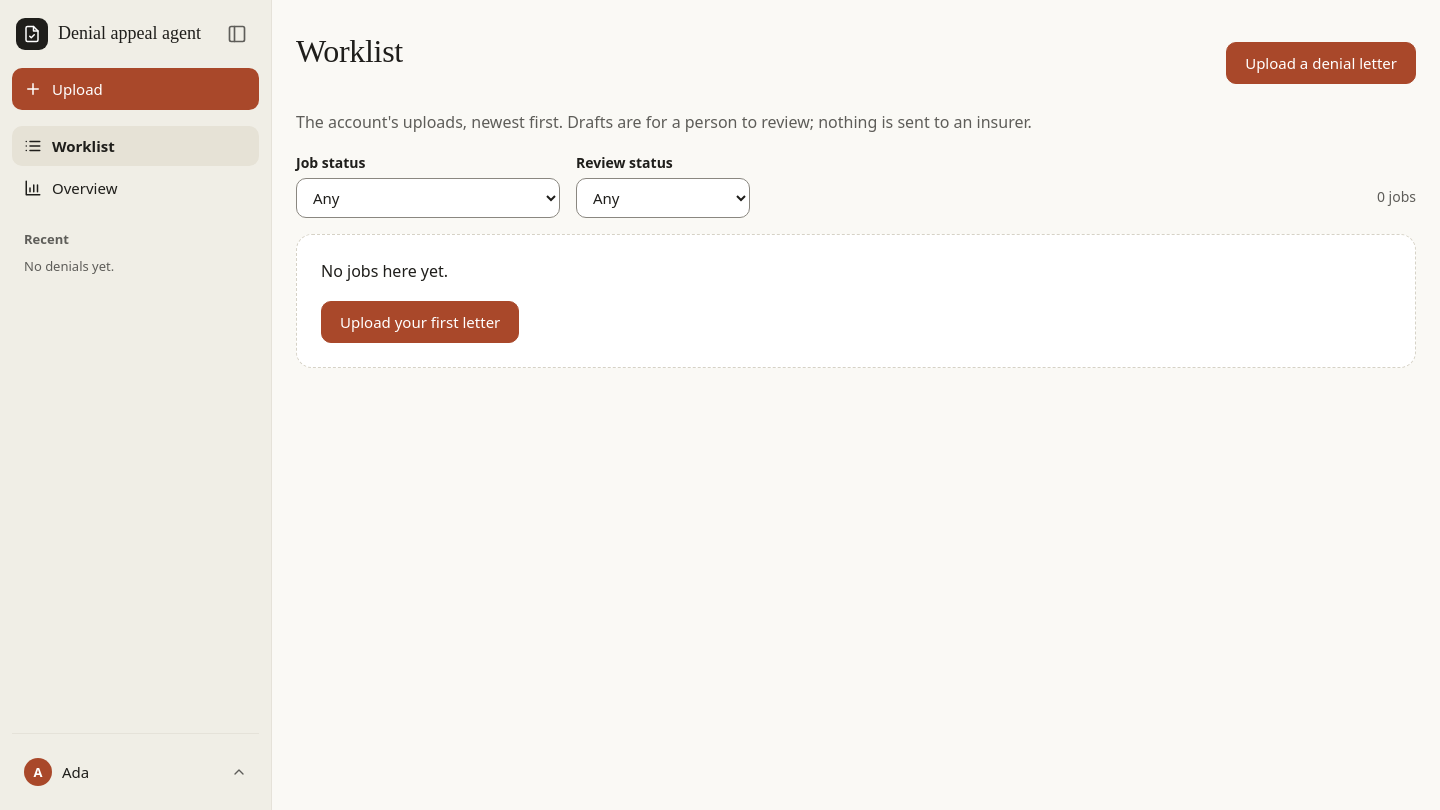
it: AppLayout › opens the menu with the email, account and role, and the focus on the first item
This screenshot has width=1440, height=810.
What coordinates should you click on to do the following:
click the button "A Ada"
I would click on:
 (136, 772)
Its box is top-left (16, 750), bottom-right (255, 794).
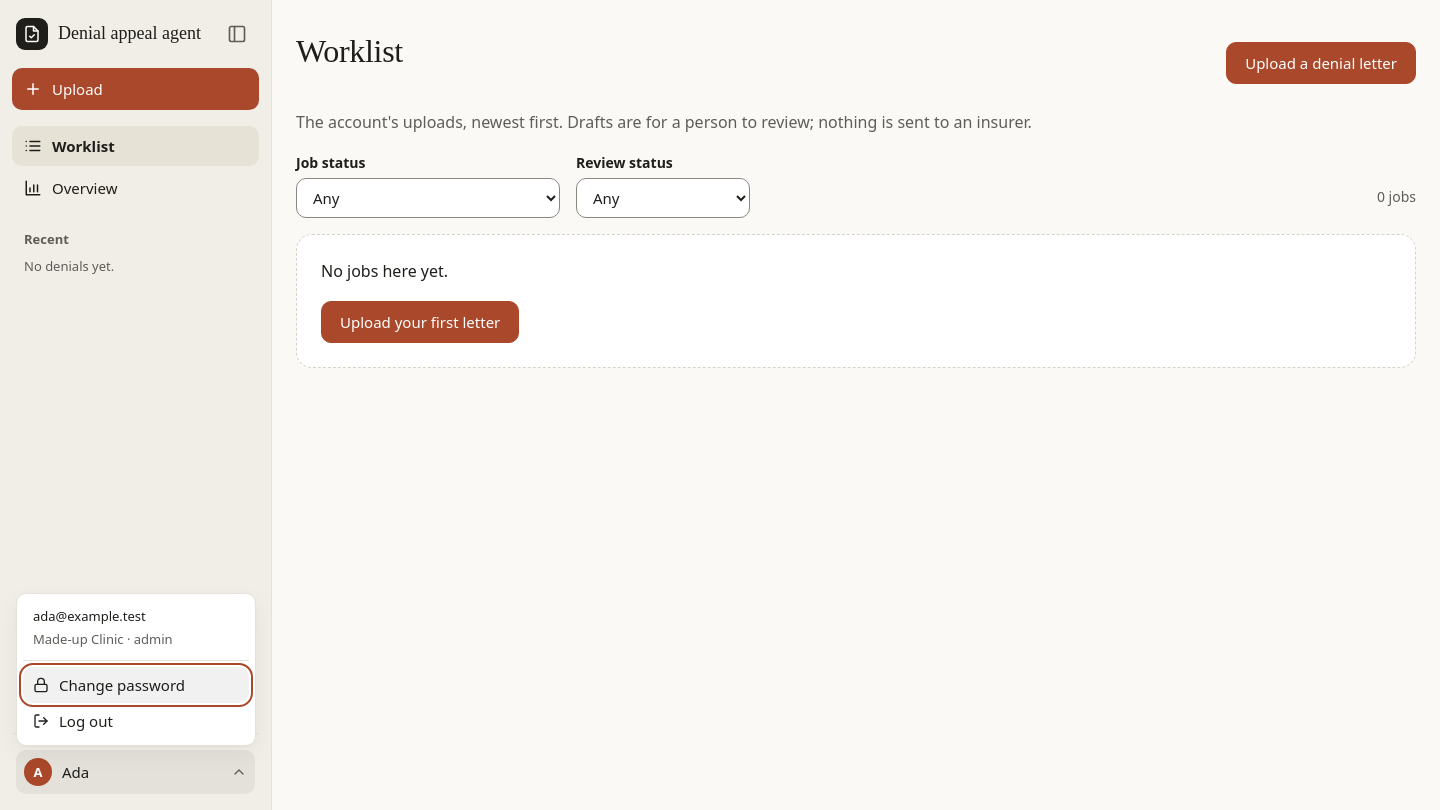
expect the text "ada@example.test" is shown: met, box top-left (33, 607), bottom-right (146, 625)
expect the text "Made-up Clinic · admin" is shown: met, box top-left (33, 630), bottom-right (173, 648)
expect the menu item "Log out" is shown: met, box top-left (23, 703), bottom-right (249, 739)
